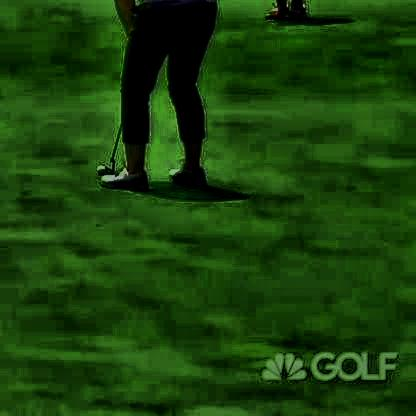golfball: (94, 161, 104, 171)
